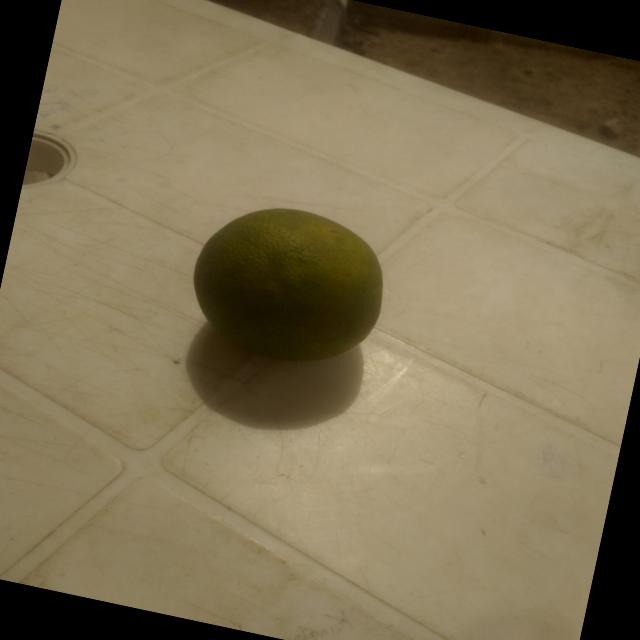Unripe: (173, 180, 406, 384)
